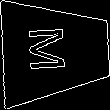M_E: (32, 27, 79, 76)
